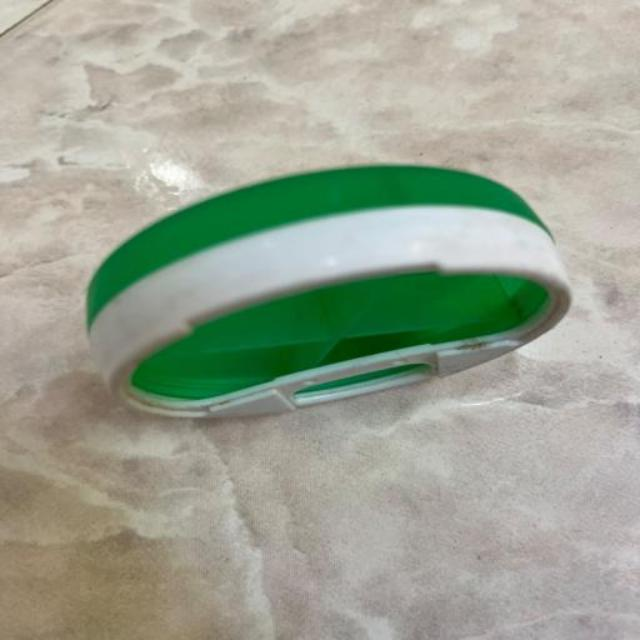HDPE: (69, 165, 621, 442)
